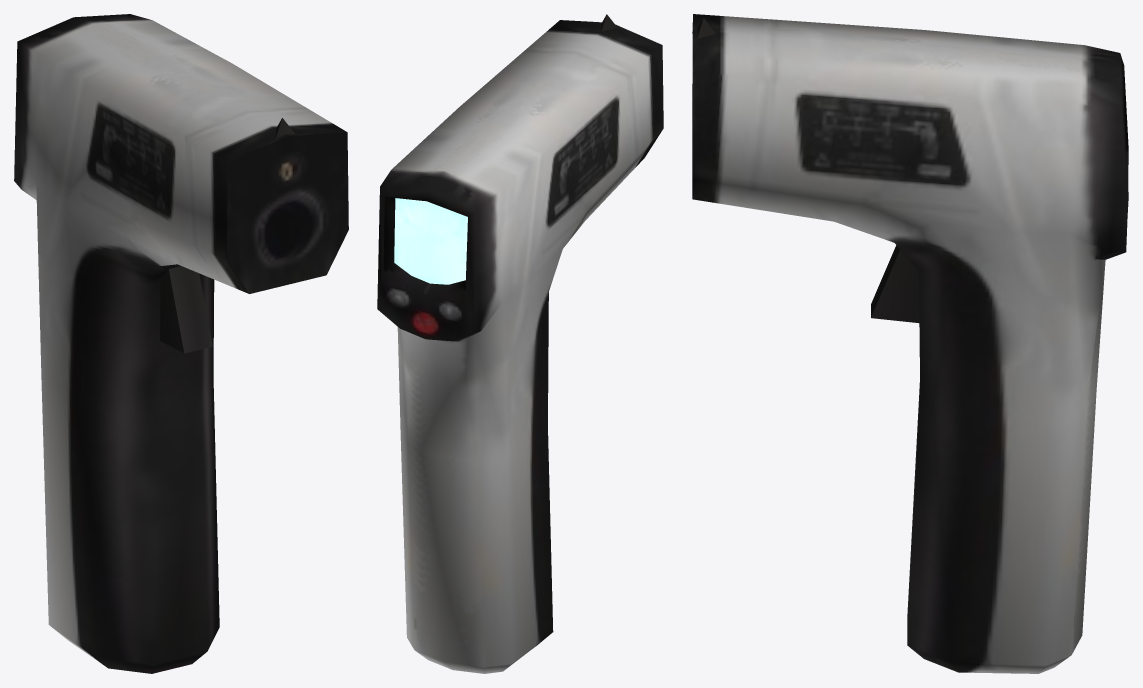
Rendered from thermometer.glb.
3 renders of one model, left to right at view 1: azimuth 30°, elevation 25°; view 2: azimuth 150°, elevation 25°; view 3: azimuth 270°, elevation 25°, orthographic. The views are drawn at different scales.
Parts seen in each view (by area): view 1: Thermometer; view 2: Thermometer; view 3: Thermometer.
Boxes of the visible parts, bbox=[...] form: Thermometer: bbox=[14, 14, 348, 673]; Thermometer: bbox=[377, 14, 663, 673]; Thermometer: bbox=[692, 14, 1128, 673].
Bounding box in the file's own units: 0.0448 × 0.216 × 0.1347.
1 material, 1 textured.
